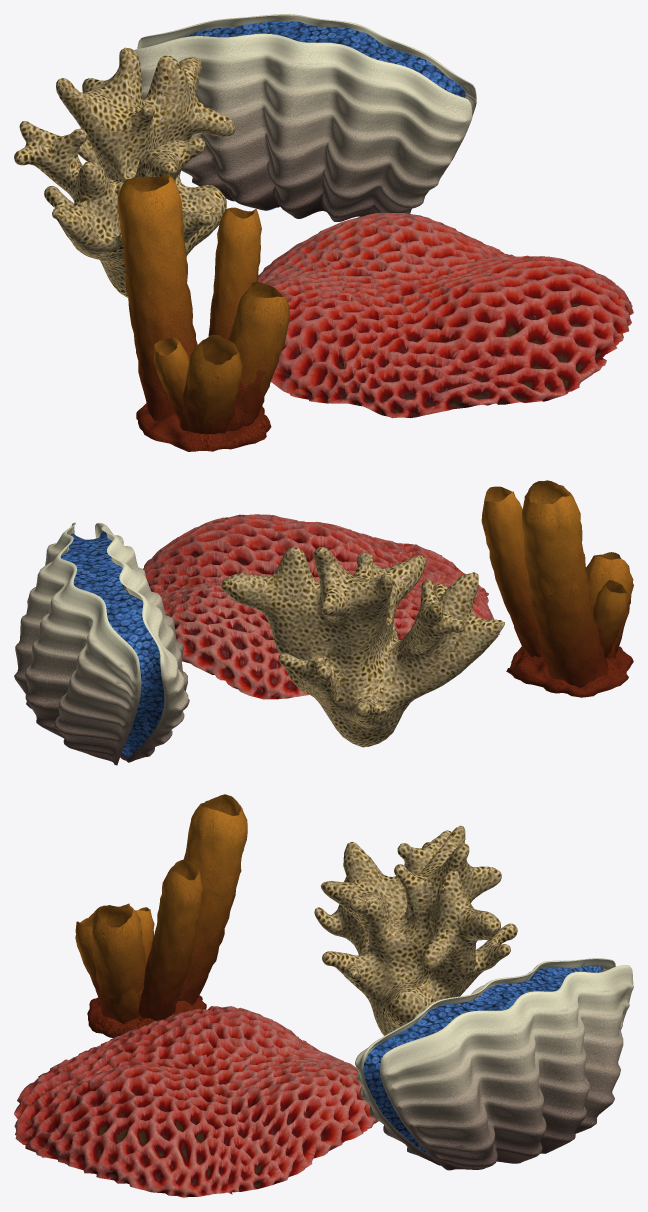
File: lowpoly_coral_pack_compressed.glb
The picture shows the model from 3 angles, top to bottom: view 1: azimuth 30°, elevation 25°; view 2: azimuth 150°, elevation 25°; view 3: azimuth 270°, elevation 25°; orthographic projection. The views are drawn at different scales.
Visible parts, largest first — view 1: coral_2_coral_2_0, coral_4_coral_4_shell_0, coral_3_coral_3_0, coral_1_coral_1_0, coral_4_coral_4_inner_0; view 2: coral_1_coral_1_0, coral_2_coral_2_0, coral_4_coral_4_shell_0, coral_3_coral_3_0, coral_4_coral_4_inner_0; view 3: coral_2_coral_2_0, coral_4_coral_4_shell_0, coral_1_coral_1_0, coral_3_coral_3_0, coral_4_coral_4_inner_0.
Part boxes in pixels (box(x1,y1,x2,y2)): coral_2_coral_2_0: box(258, 212, 633, 418); coral_4_coral_4_shell_0: box(134, 14, 476, 221); coral_3_coral_3_0: box(117, 174, 289, 451); coral_1_coral_1_0: box(14, 47, 235, 297); coral_4_coral_4_inner_0: box(183, 21, 465, 221); coral_1_coral_1_0: box(221, 547, 504, 747); coral_2_coral_2_0: box(143, 514, 499, 699); coral_4_coral_4_shell_0: box(14, 522, 189, 765); coral_3_coral_3_0: box(481, 480, 633, 697); coral_4_coral_4_inner_0: box(60, 531, 164, 757); coral_2_coral_2_0: box(14, 1006, 378, 1197); coral_4_coral_4_shell_0: box(355, 958, 633, 1170); coral_1_coral_1_0: box(314, 825, 517, 1035); coral_3_coral_3_0: box(75, 794, 247, 1037); coral_4_coral_4_inner_0: box(363, 966, 603, 1163).
Bounding box in the file's own units: 3.16 × 1.43 × 3.75.
5 materials, 5 textured.
